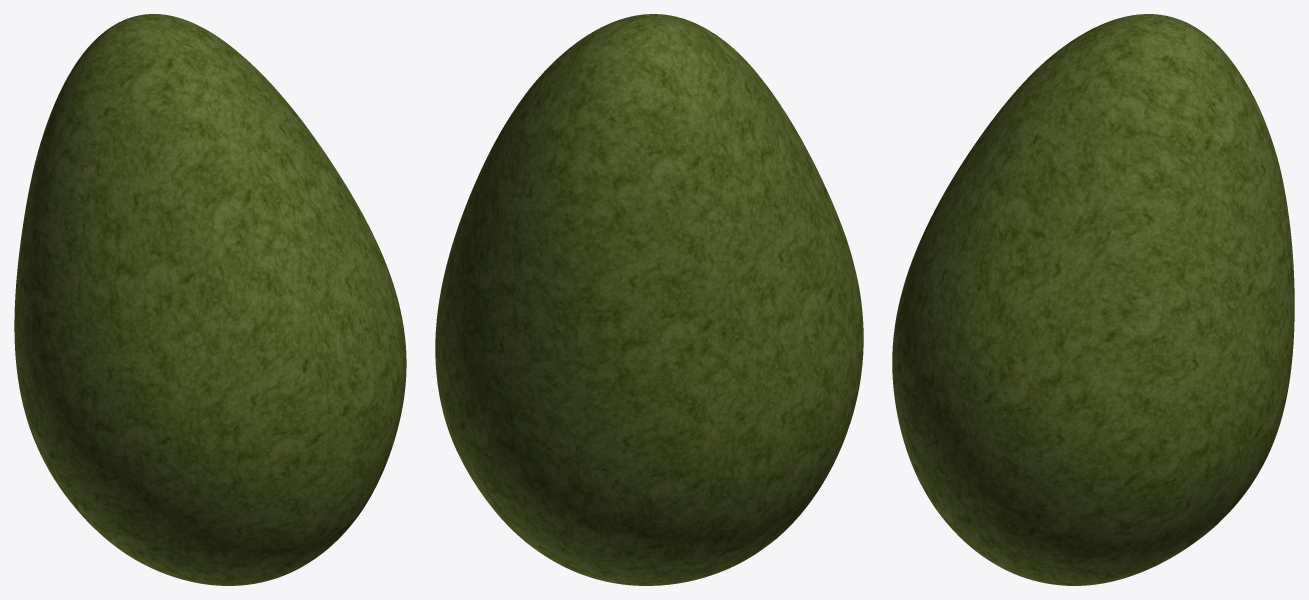
3 views of the same model, side by side, from view 1: azimuth 30°, elevation 25°; view 2: azimuth 150°, elevation 25°; view 3: azimuth 270°, elevation 25° (orthographic). The views are drawn at different scales.
Parts seen in each view (by area): view 1: ZBrush_defualt_group; view 2: ZBrush_defualt_group; view 3: ZBrush_defualt_group.
Boxes of the visible parts, <box> form: ZBrush_defualt_group: <box>14,14,406,585</box>; ZBrush_defualt_group: <box>435,14,863,585</box>; ZBrush_defualt_group: <box>892,14,1294,585</box>.
Bounding box in the file's own units: 2.72 × 4.09 × 2.8.
1 material, 1 textured.
